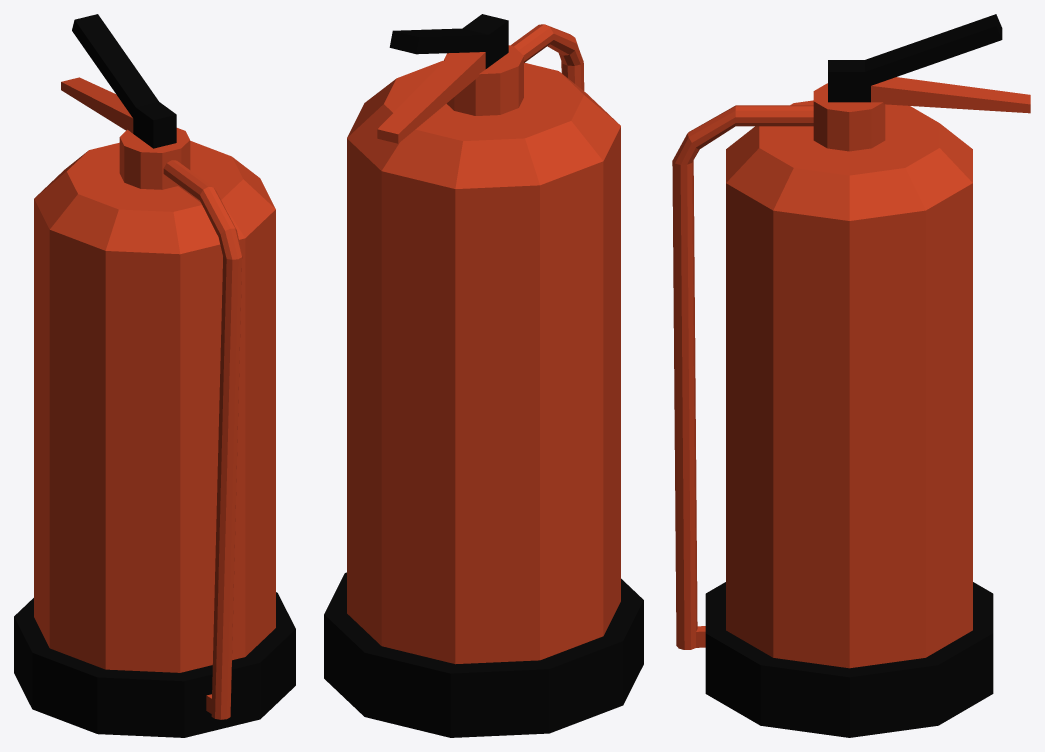
File: extintor.fbx
3 views of the same model, side by side, from view 1: azimuth 30°, elevation 25°; view 2: azimuth 150°, elevation 25°; view 3: azimuth 270°, elevation 25° (orthographic). The views are drawn at different scales.
Visible parts, largest first — view 1: Cylinder.013; view 2: Cylinder.013; view 3: Cylinder.013.
Boxes of the visible parts, x1,y1,x2,y2 form: Cylinder.013: (14, 14, 295, 737); Cylinder.013: (324, 14, 643, 737); Cylinder.013: (672, 14, 1030, 737).
Size of the model in its own units: 69.96 by 167 by 82.75.
